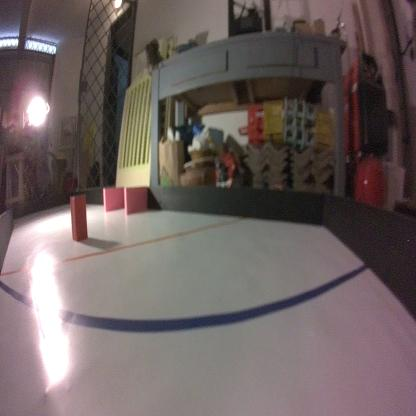magenta: (122, 186, 149, 214), (102, 184, 127, 214)
red: (69, 192, 87, 240)
